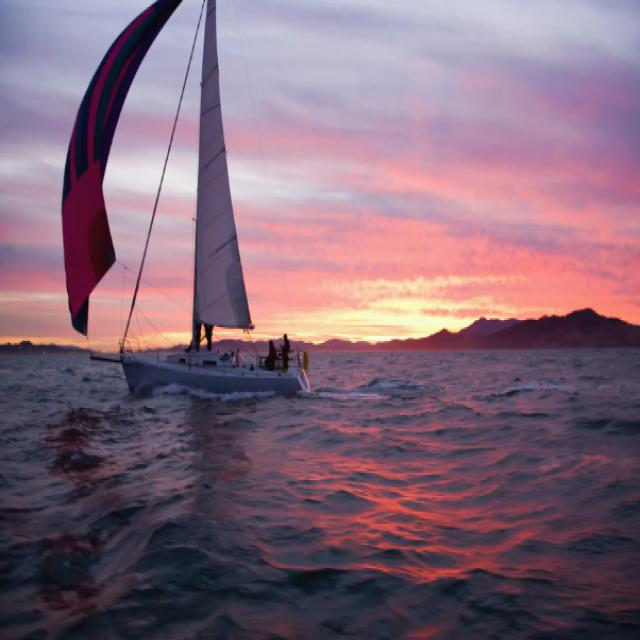sailboat: (56, 0, 304, 403)
